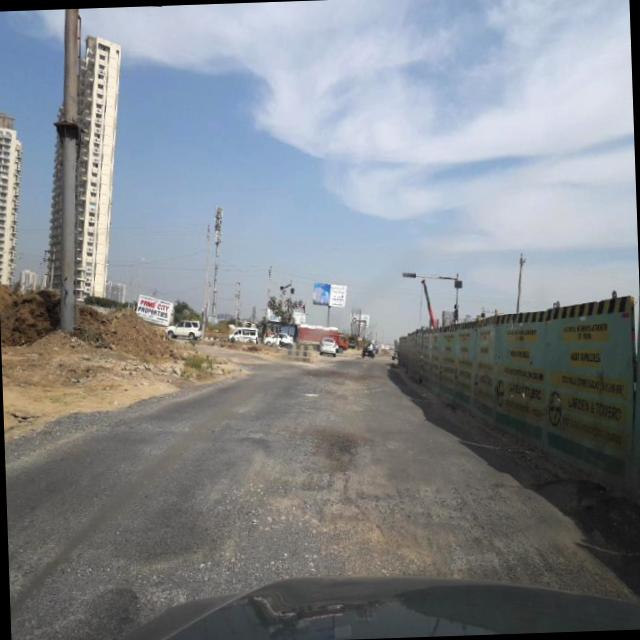pothole: (106, 410, 581, 584)
